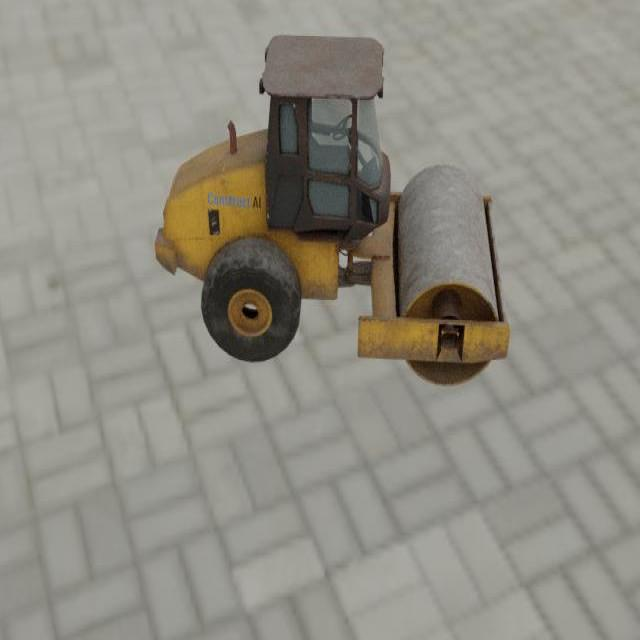Roller: (154, 33, 510, 387)
